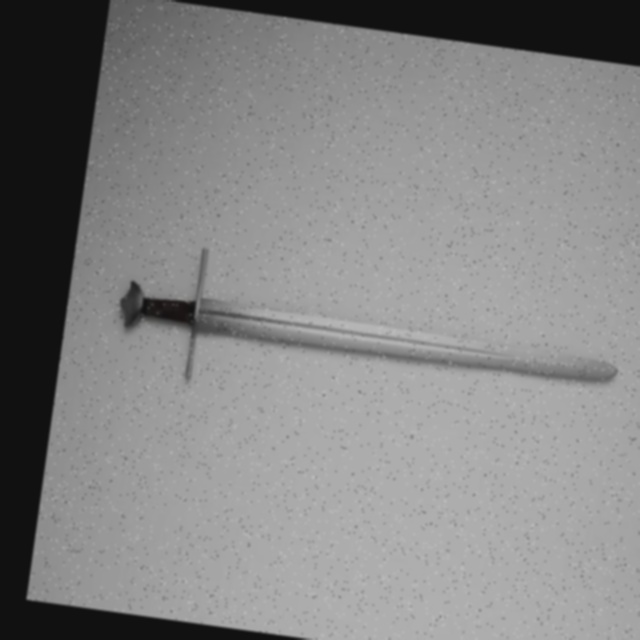Sharp-Object: (100, 283, 620, 399)
